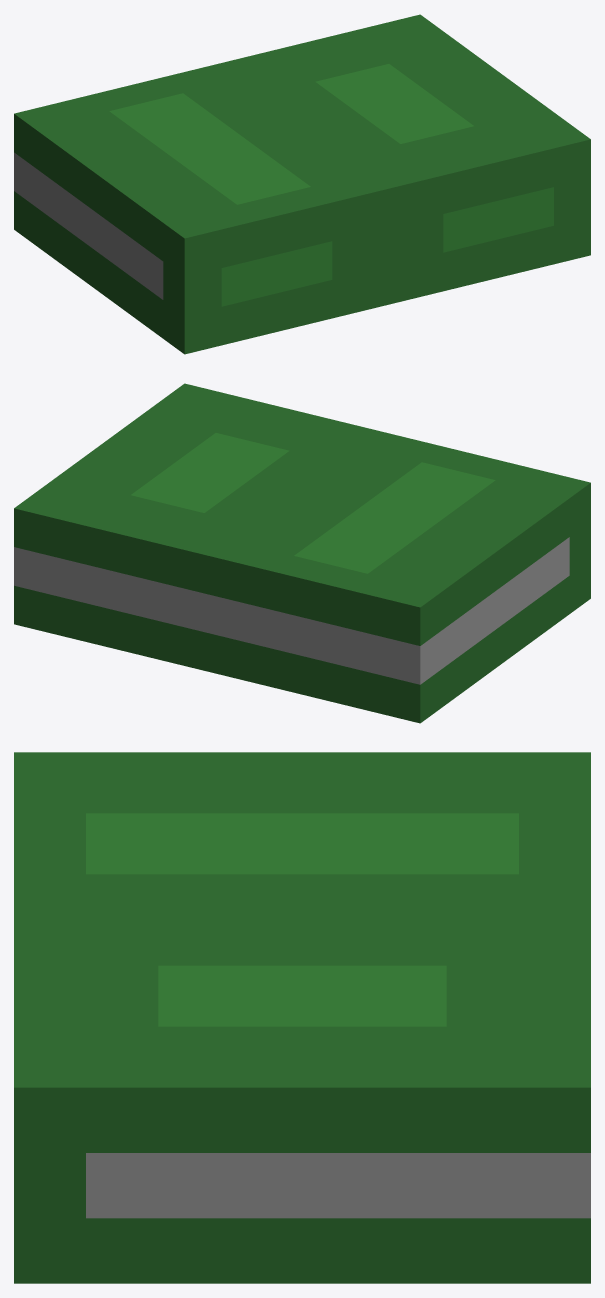
Rendered from Decor-2.obj.
3 renders of one model, top to bottom at view 1: azimuth 30°, elevation 25°; view 2: azimuth 150°, elevation 25°; view 3: azimuth 270°, elevation 25°, orthographic. The views are drawn at different scales.
Bounding box in the file's own units: 1.1 × 0.3 × 0.8.
Materials: 1 (1 with a texture image).
